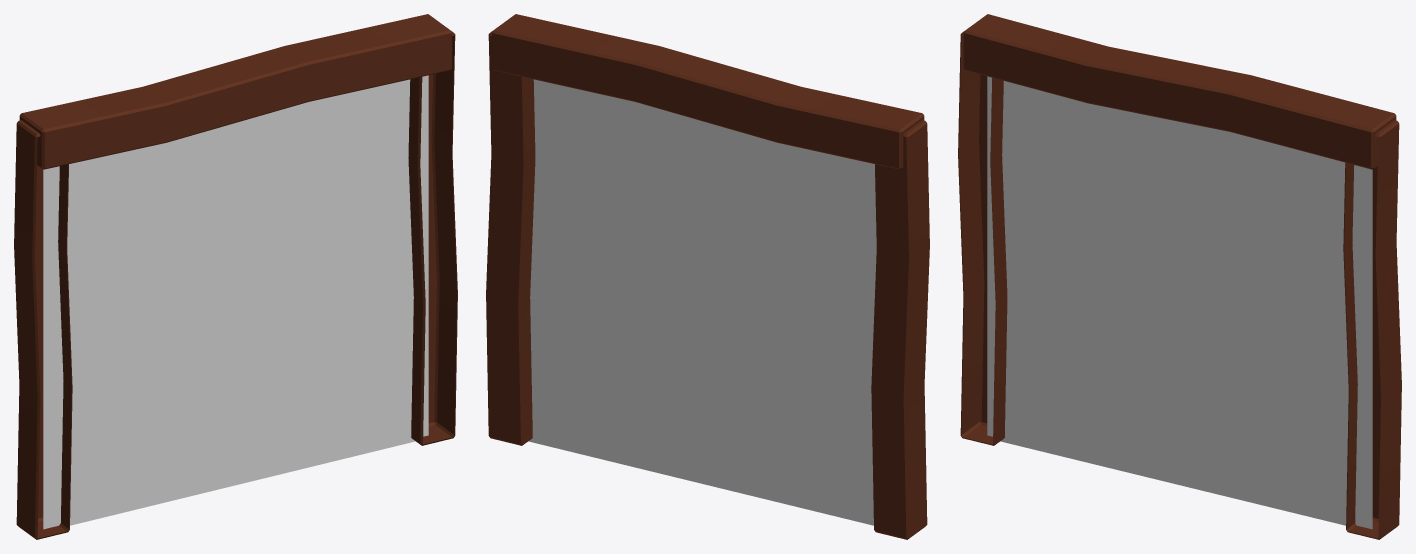
The model's file is Wall_Short.fbx.
3 views of the same model, side by side, from view 1: azimuth 30°, elevation 25°; view 2: azimuth 150°, elevation 25°; view 3: azimuth 330°, elevation 25° (orthographic).
Parts seen in each view (by area): view 1: Wall_small, Beam_top, Beam_Corner, Beam_Corner1; view 2: Wall_small, Beam_top, Beam_Corner1, Beam_Corner; view 3: Wall_small, Beam_top, Beam_Corner1, Beam_Corner.
Part boxes in pixels (bbox=[...]): Wall_small: bbox=[43, 75, 428, 529]; Beam_top: bbox=[19, 14, 452, 169]; Beam_Corner: bbox=[408, 32, 457, 445]; Beam_Corner1: bbox=[14, 120, 72, 539]; Wall_small: bbox=[528, 79, 876, 525]; Beam_top: bbox=[491, 14, 924, 169]; Beam_Corner1: bbox=[871, 120, 929, 539]; Beam_Corner: bbox=[486, 32, 535, 445]; Wall_small: bbox=[987, 76, 1372, 529]; Beam_top: bbox=[963, 14, 1396, 169]; Beam_Corner1: bbox=[958, 32, 1007, 445]; Beam_Corner: bbox=[1343, 120, 1401, 539].
Bounding box in the file's own units: 0.0221 × 0.0207 × 0.00221.
